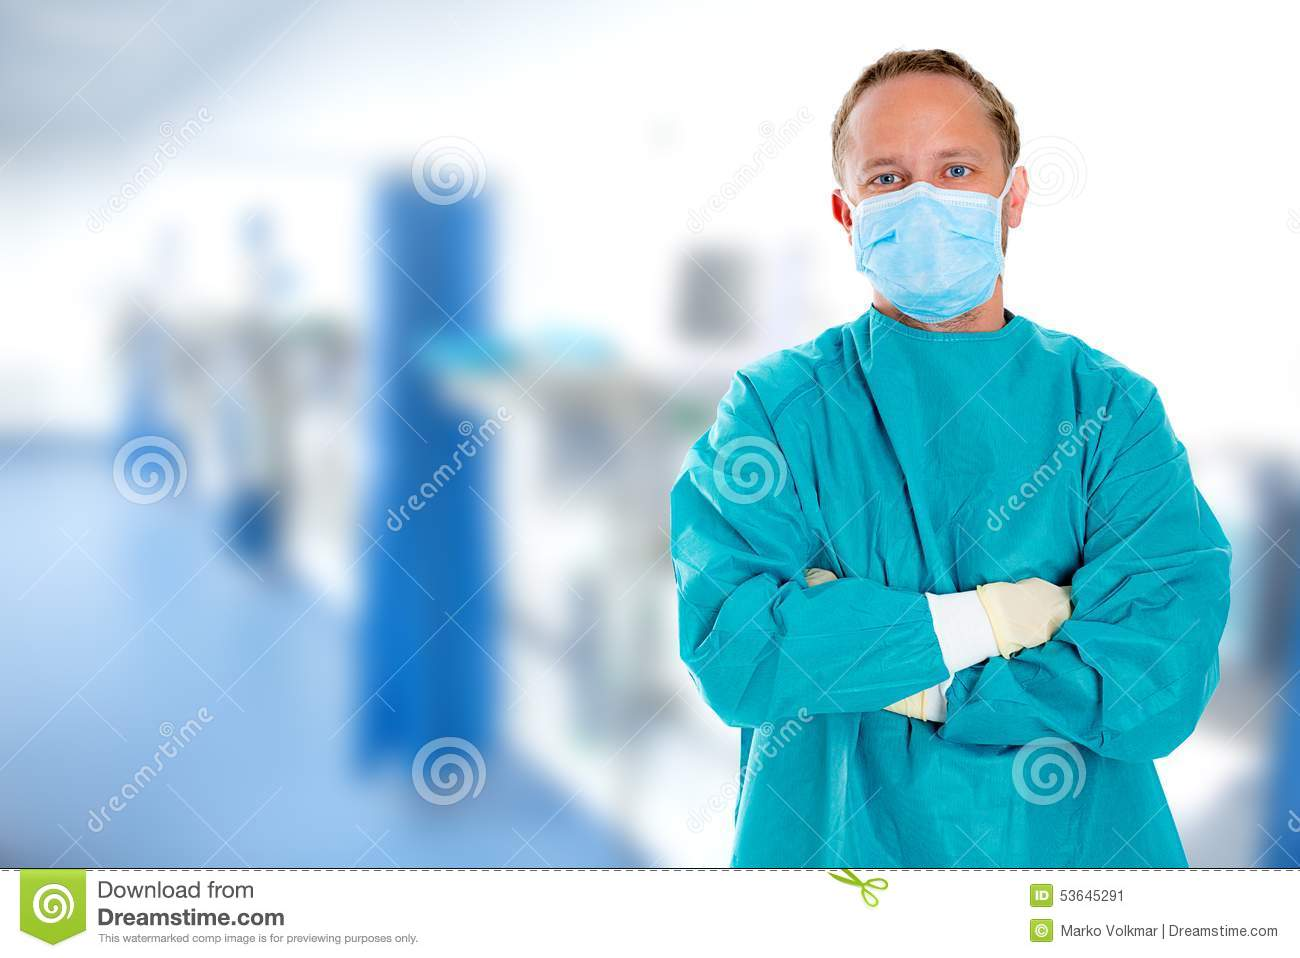mask: (844, 189, 1019, 332)
